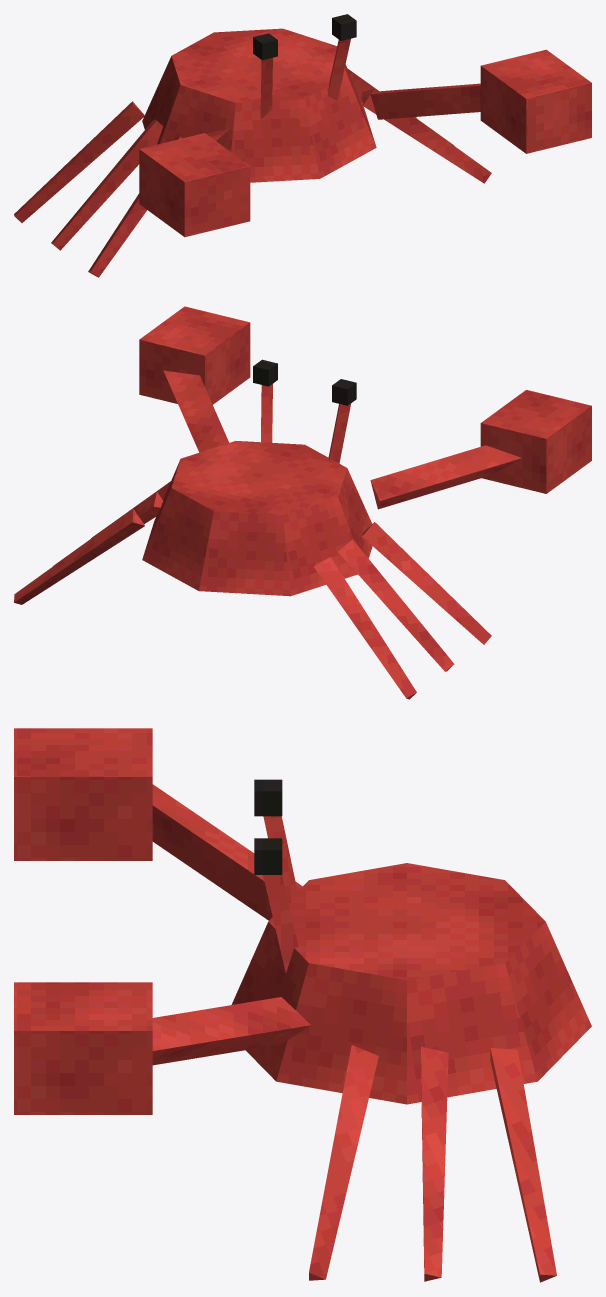
The model's file is cangrejo.obj.
3 renders of one model, top to bottom at view 1: azimuth 30°, elevation 25°; view 2: azimuth 150°, elevation 25°; view 3: azimuth 270°, elevation 25°, orthographic. The views are drawn at different scales.
Visible parts, largest first — view 1: cangrejo; view 2: cangrejo; view 3: cangrejo.
Boxes of the visible parts, box(x1,y1,x2,y2) form: cangrejo: box(14, 14, 591, 277); cangrejo: box(14, 306, 591, 699); cangrejo: box(14, 728, 591, 1282).
Size of the model in its own units: 0.31 by 0.1546 by 0.25.
Materials: 2 (2 with a texture image).
